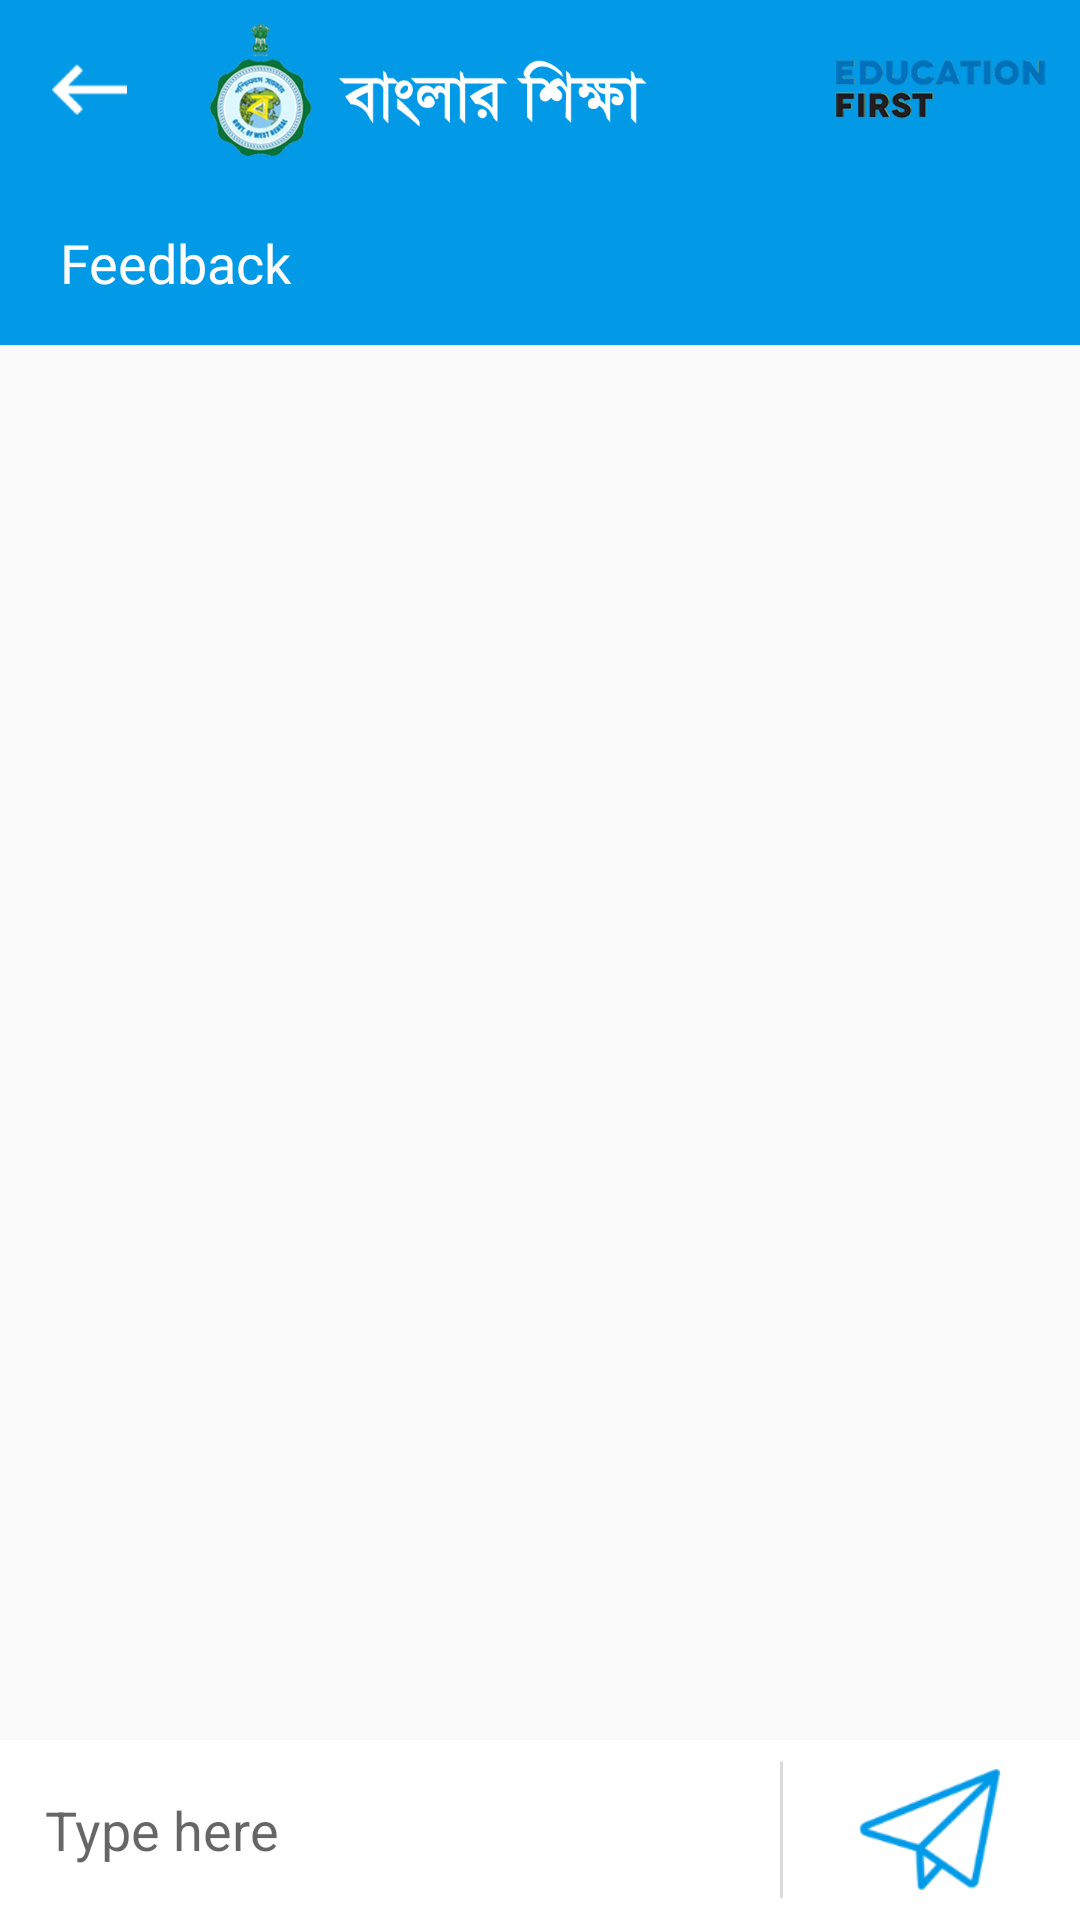

Locate icon controls on the screen. Image size 1080*1920, boxes as (x1, y1, x2, y2).
send: (859, 1769, 1000, 1890)
